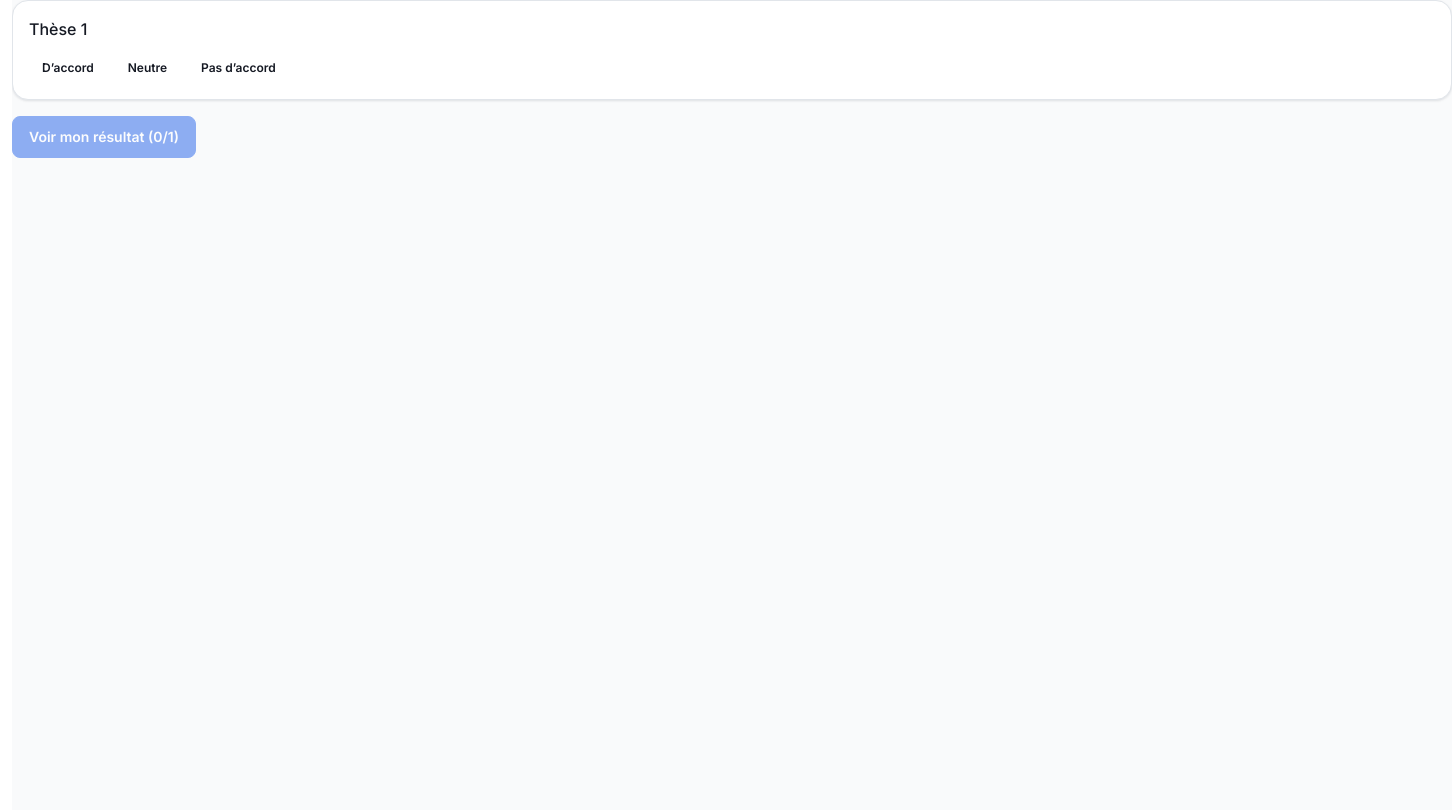
Scenario: boussole quiz › calcule et affiche le parti le plus proche après une réponse
Click the button "D’accord": (68, 68) [29,53,107,83]
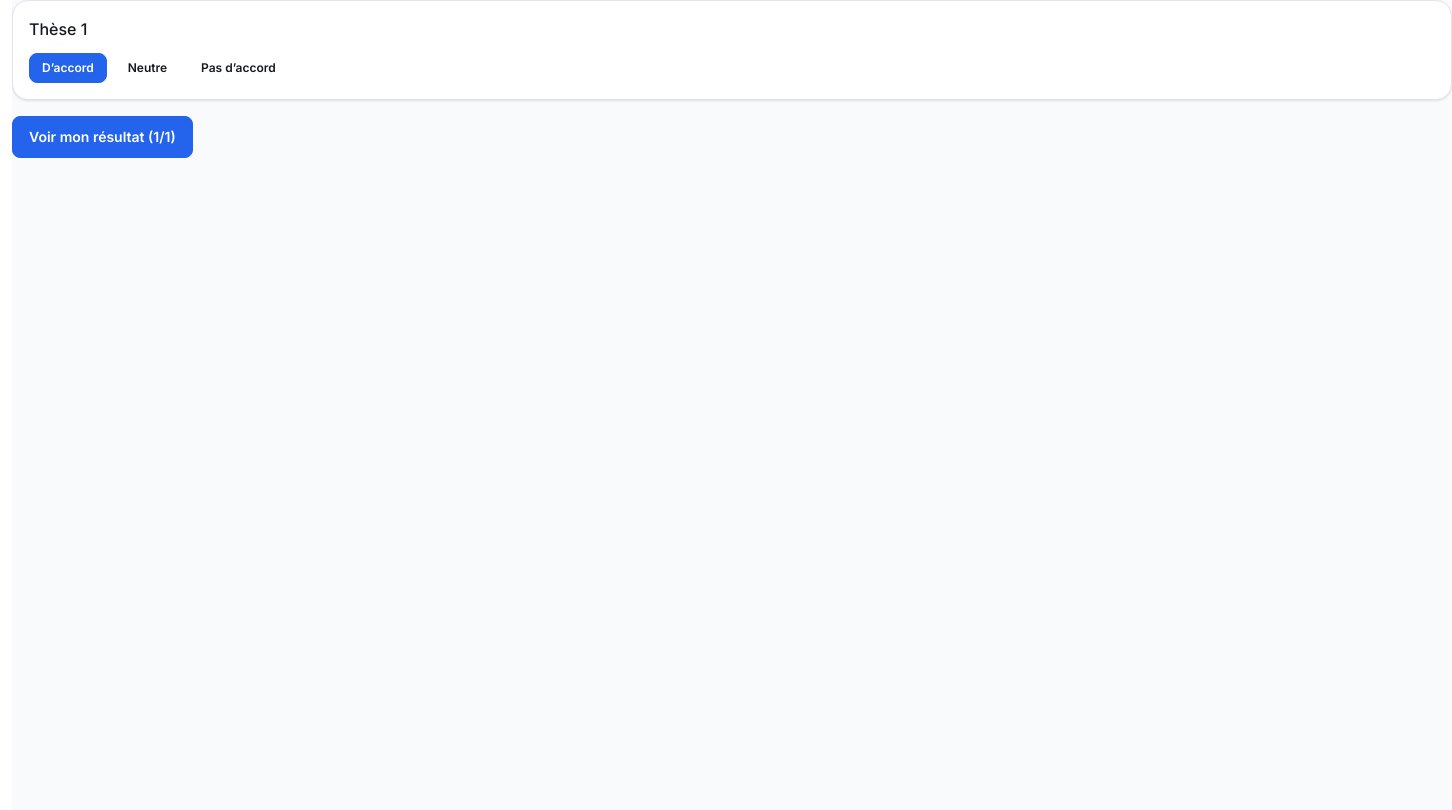
Click the button "Voir mon résultat (1/1)": (102, 137) [12,116,193,158]
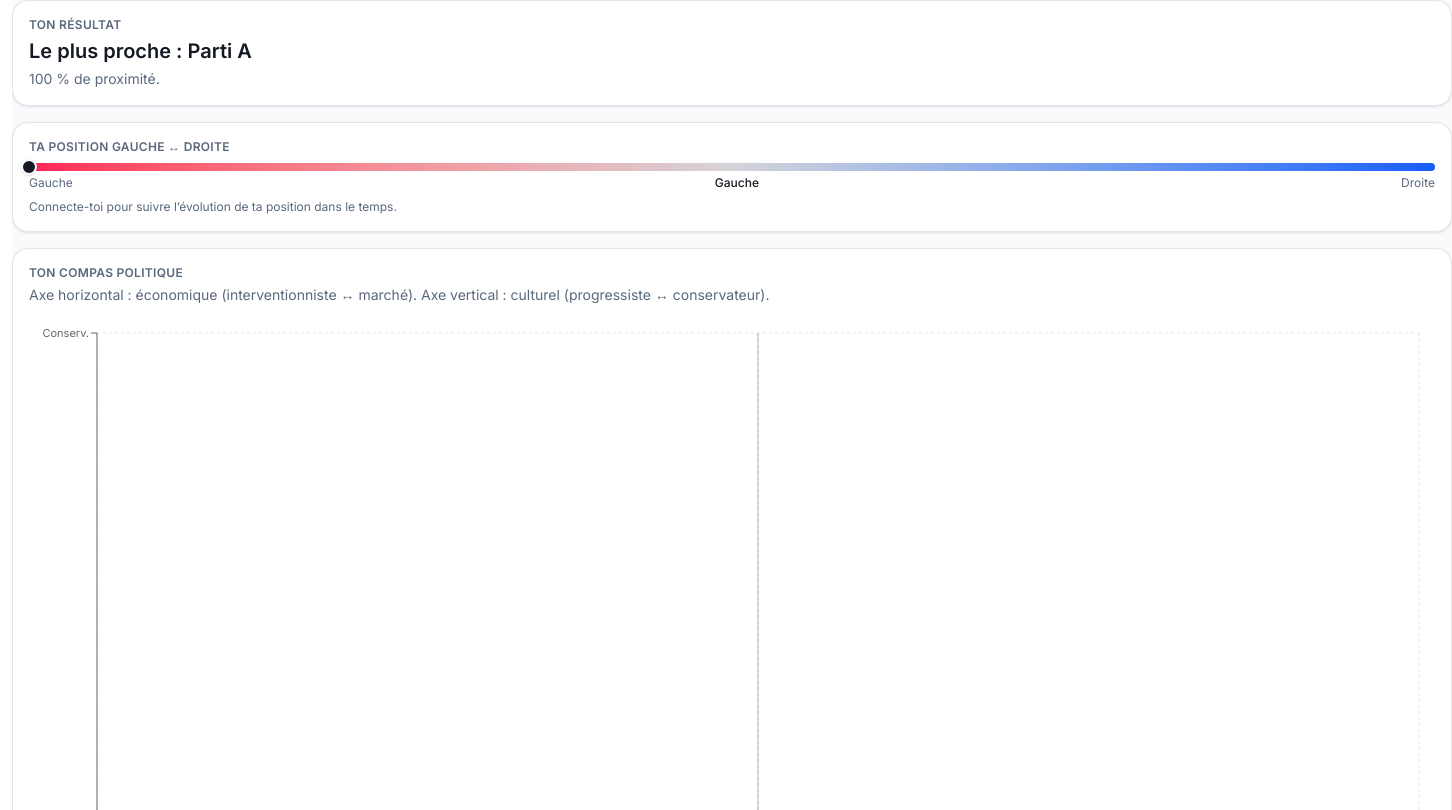
Now the heading "Le plus proche : Parti A" is shown, box [29,39,252,63]
Now the text "Connecte-toi pour suivre" is shown, box [29,199,397,214]
